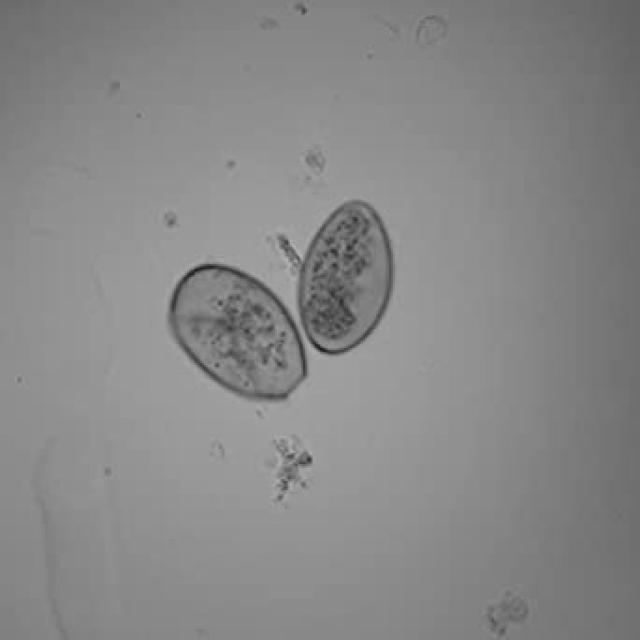Fasciola Hepatica: (168, 259, 312, 405), (294, 193, 400, 363)
